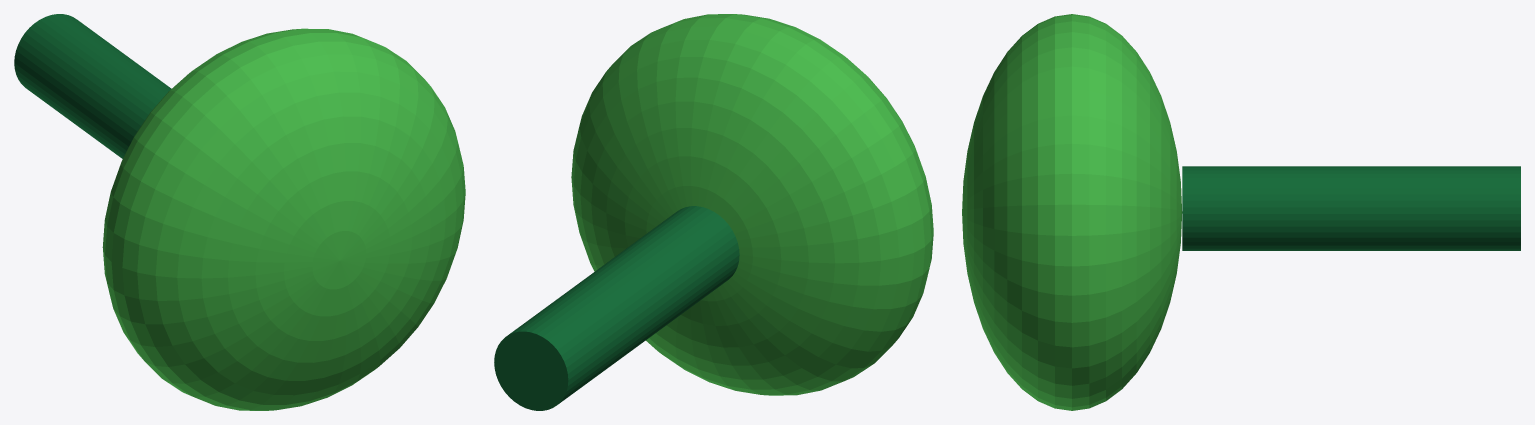
The model's file is tinker.obj.
3 renders of one model, left to right at view 1: azimuth 30°, elevation 25°; view 2: azimuth 150°, elevation 25°; view 3: azimuth 270°, elevation 25°, orthographic.
Visible parts, largest first — view 1: obj_1, obj_0; view 2: obj_1, obj_0; view 3: obj_1, obj_0.
Part boxes in pixels (bbox=[...]): obj_1: bbox=[102, 28, 465, 410]; obj_0: bbox=[14, 14, 171, 158]; obj_1: bbox=[571, 14, 933, 395]; obj_0: bbox=[494, 206, 739, 410]; obj_1: bbox=[962, 14, 1182, 410]; obj_0: bbox=[1182, 166, 1520, 250].
Bounding box in the file's own units: 93 × 94 × 132.
